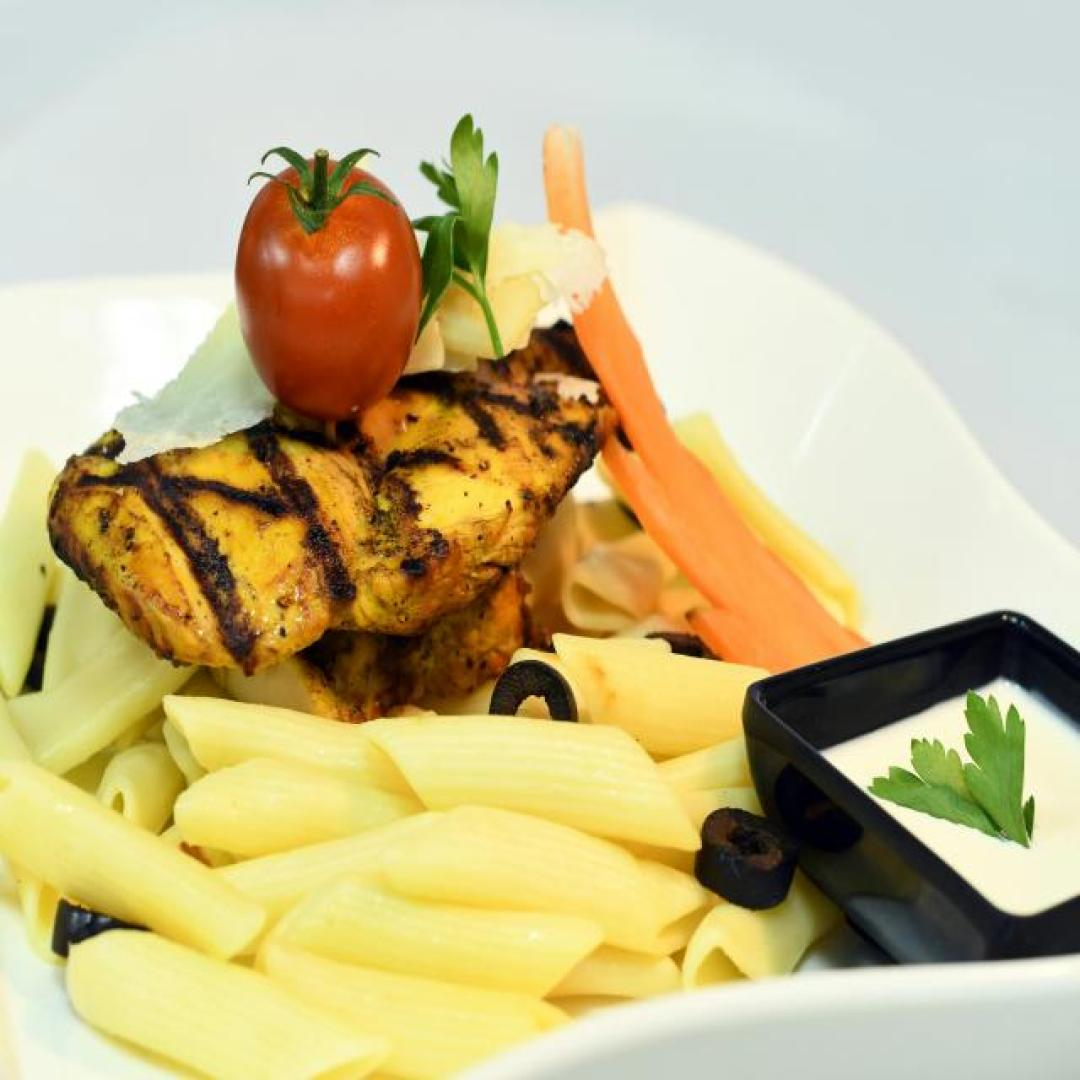matang: (236, 159, 422, 422)
